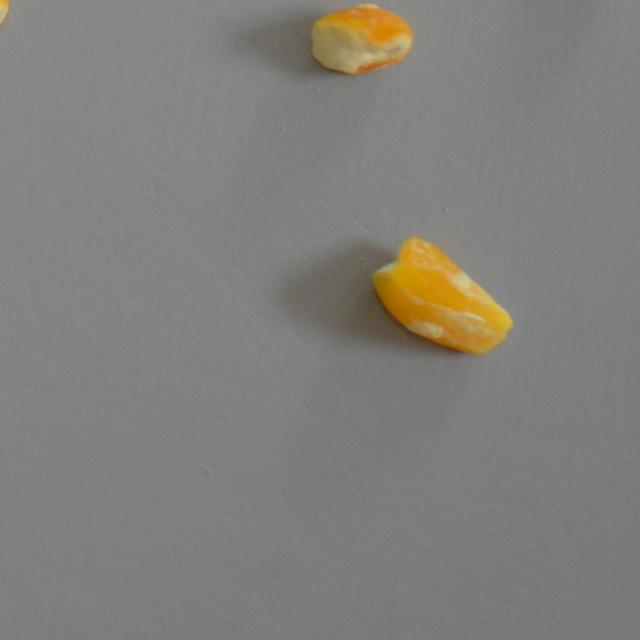dañado: (368, 232, 518, 360), (304, 0, 418, 84)
